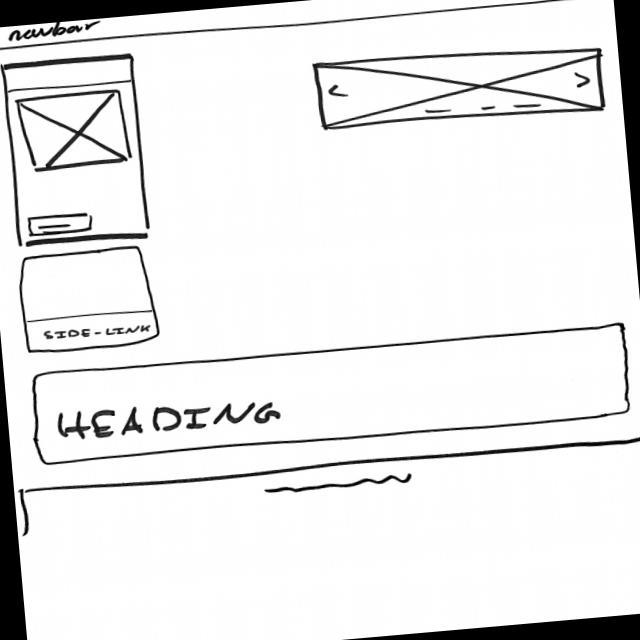container: (31, 319, 638, 470), (1, 1, 614, 53), (1, 51, 153, 250), (18, 244, 168, 361)
icon-button: (24, 211, 95, 238)
image: (310, 37, 610, 139), (15, 88, 138, 174)
label: (55, 390, 285, 445), (43, 321, 154, 344), (5, 19, 104, 42)
text: (263, 472, 415, 497)
